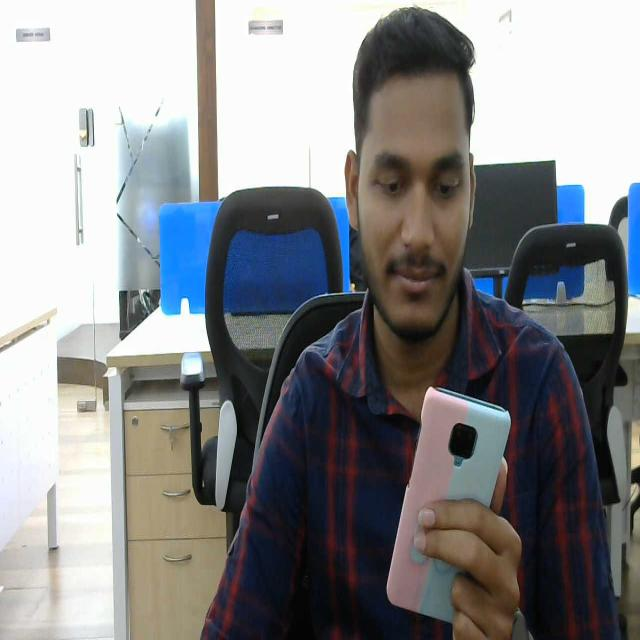phone: (389, 384, 512, 618)
